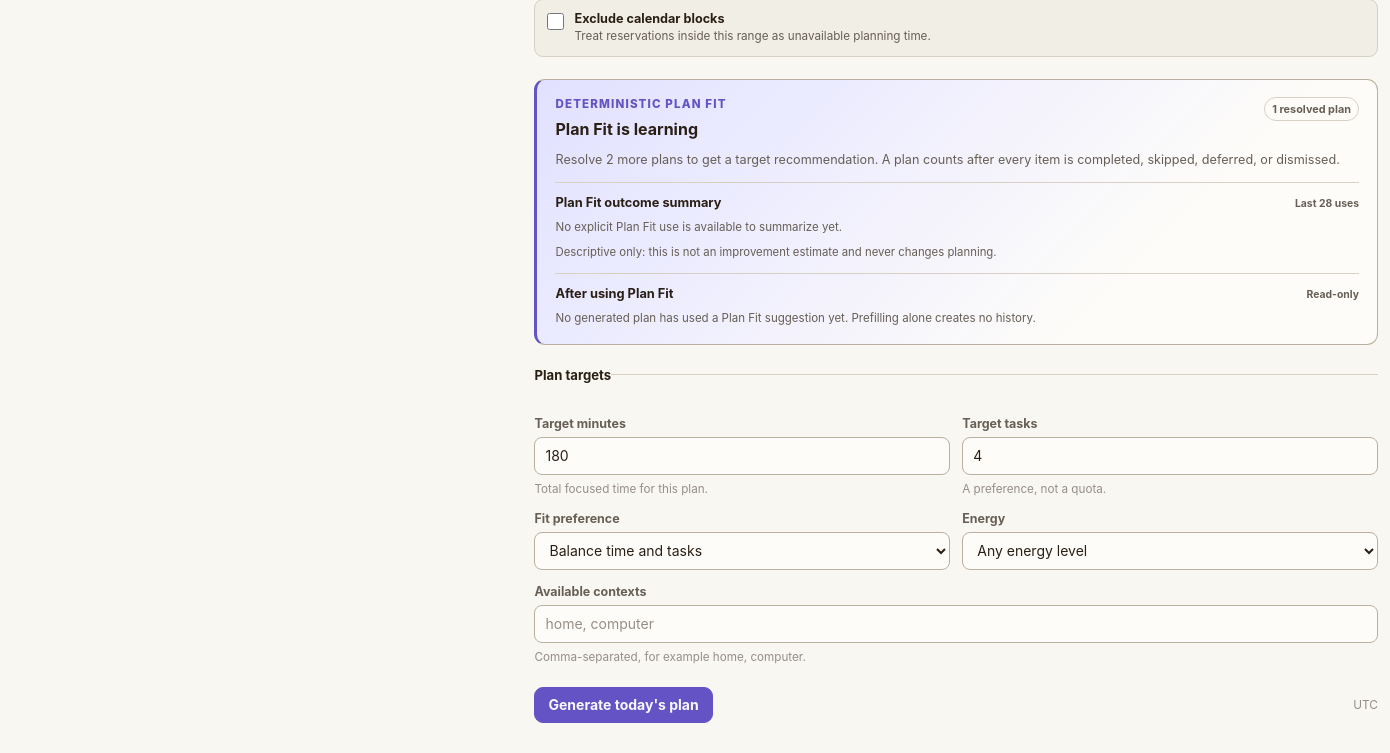
Test: Today commands › generates a plan from both time and task-count targets
(page scrolled)
Click the button "Generate today's plan": (624, 705) [534,687,713,723]
(page scrolled)
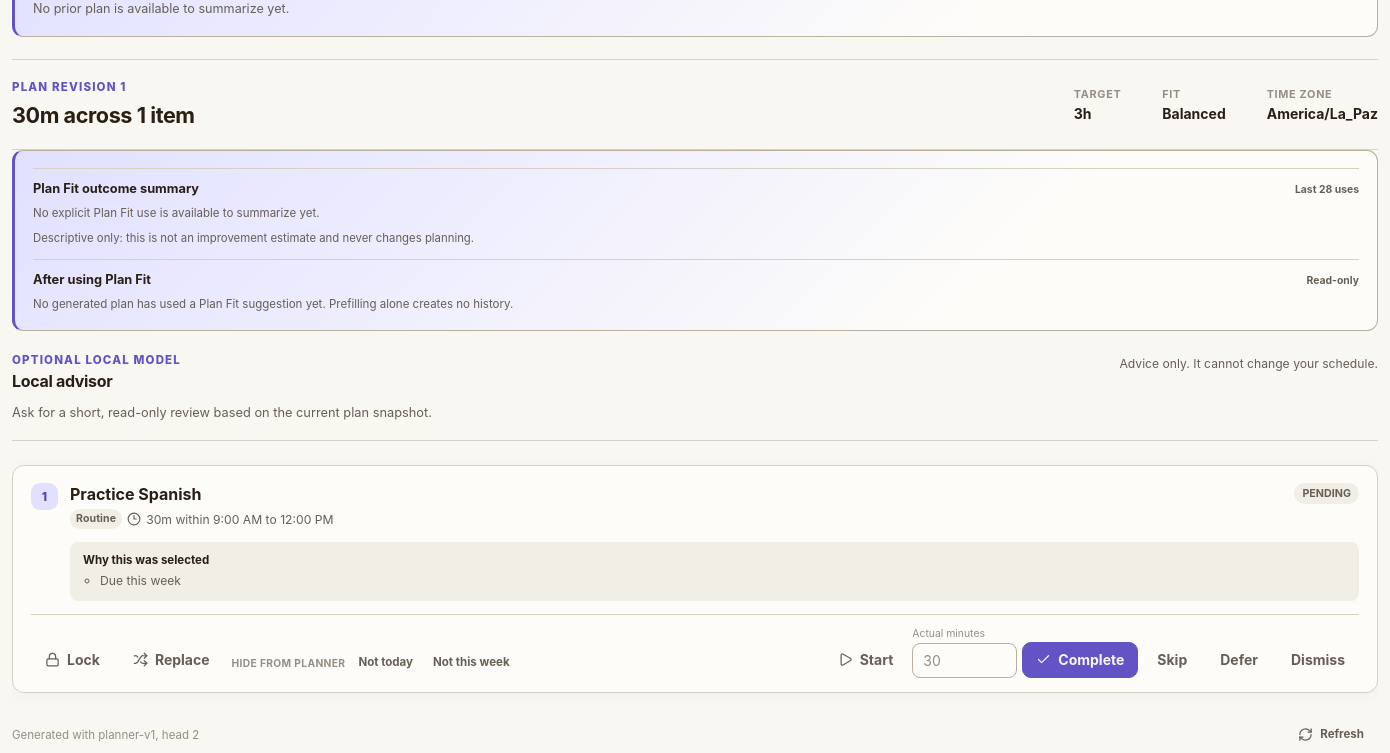
Check: the heading "Practice Spanish" is shown, box [70,484,202,504]
